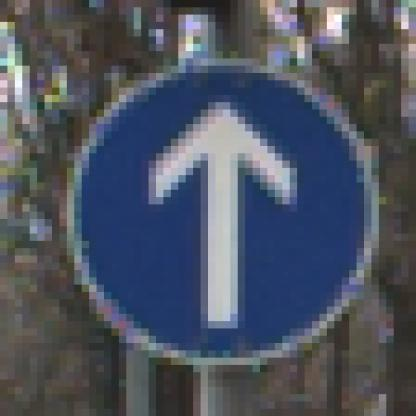AheadOnly: (46, 45, 373, 373)
